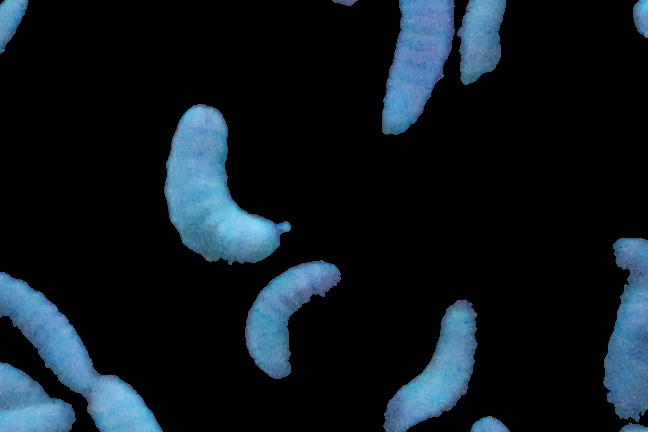larvae: (164, 94, 280, 267), (380, 301, 476, 432), (1, 262, 95, 394), (239, 262, 341, 381), (594, 235, 648, 421), (382, 1, 454, 134), (88, 373, 159, 432), (457, 1, 506, 85), (1, 366, 50, 427), (1, 400, 75, 432)
